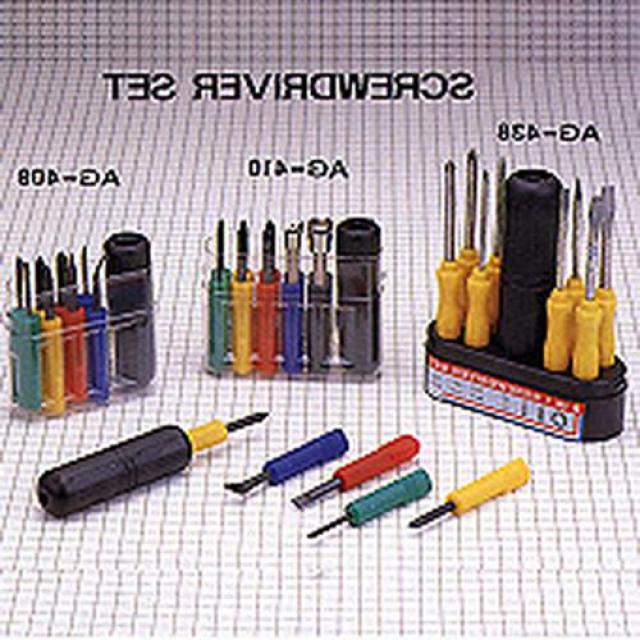screw driver: (424, 141, 481, 350)
